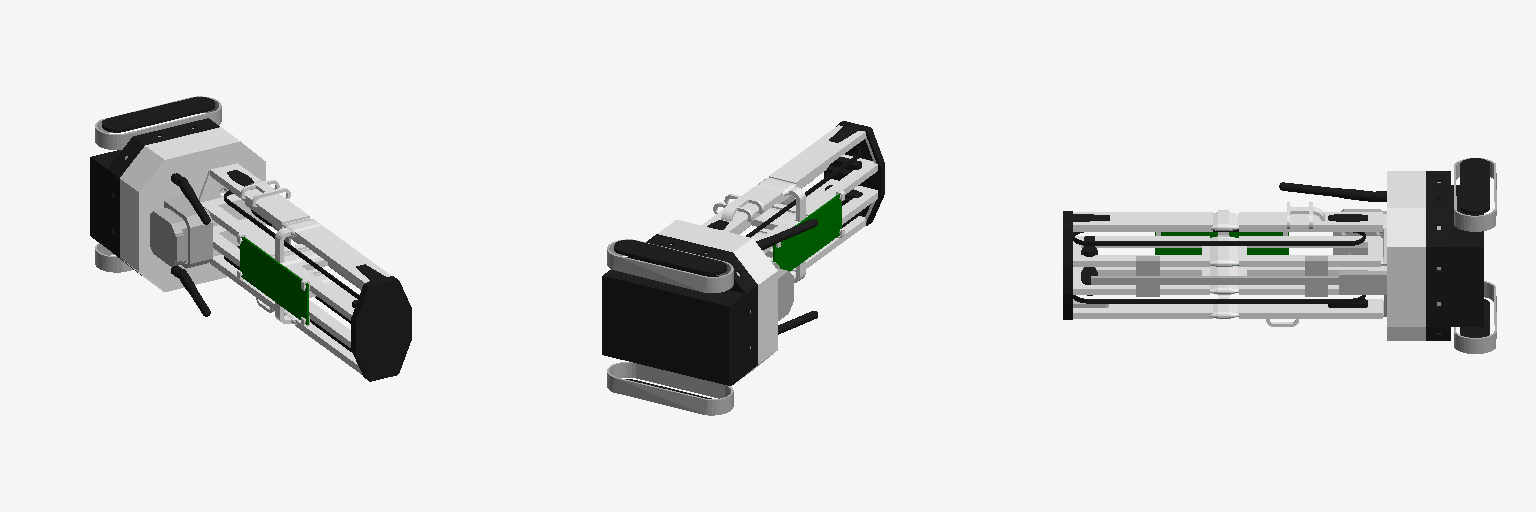
Rendered from builderbot.obj.
3 views of the same model, side by side, from view 1: azimuth 30°, elevation 25°; view 2: azimuth 150°, elevation 25°; view 3: azimuth 270°, elevation 25° (orthographic).
Bounding box in the file's own units: 0.13 × 0.14 × 0.3858.